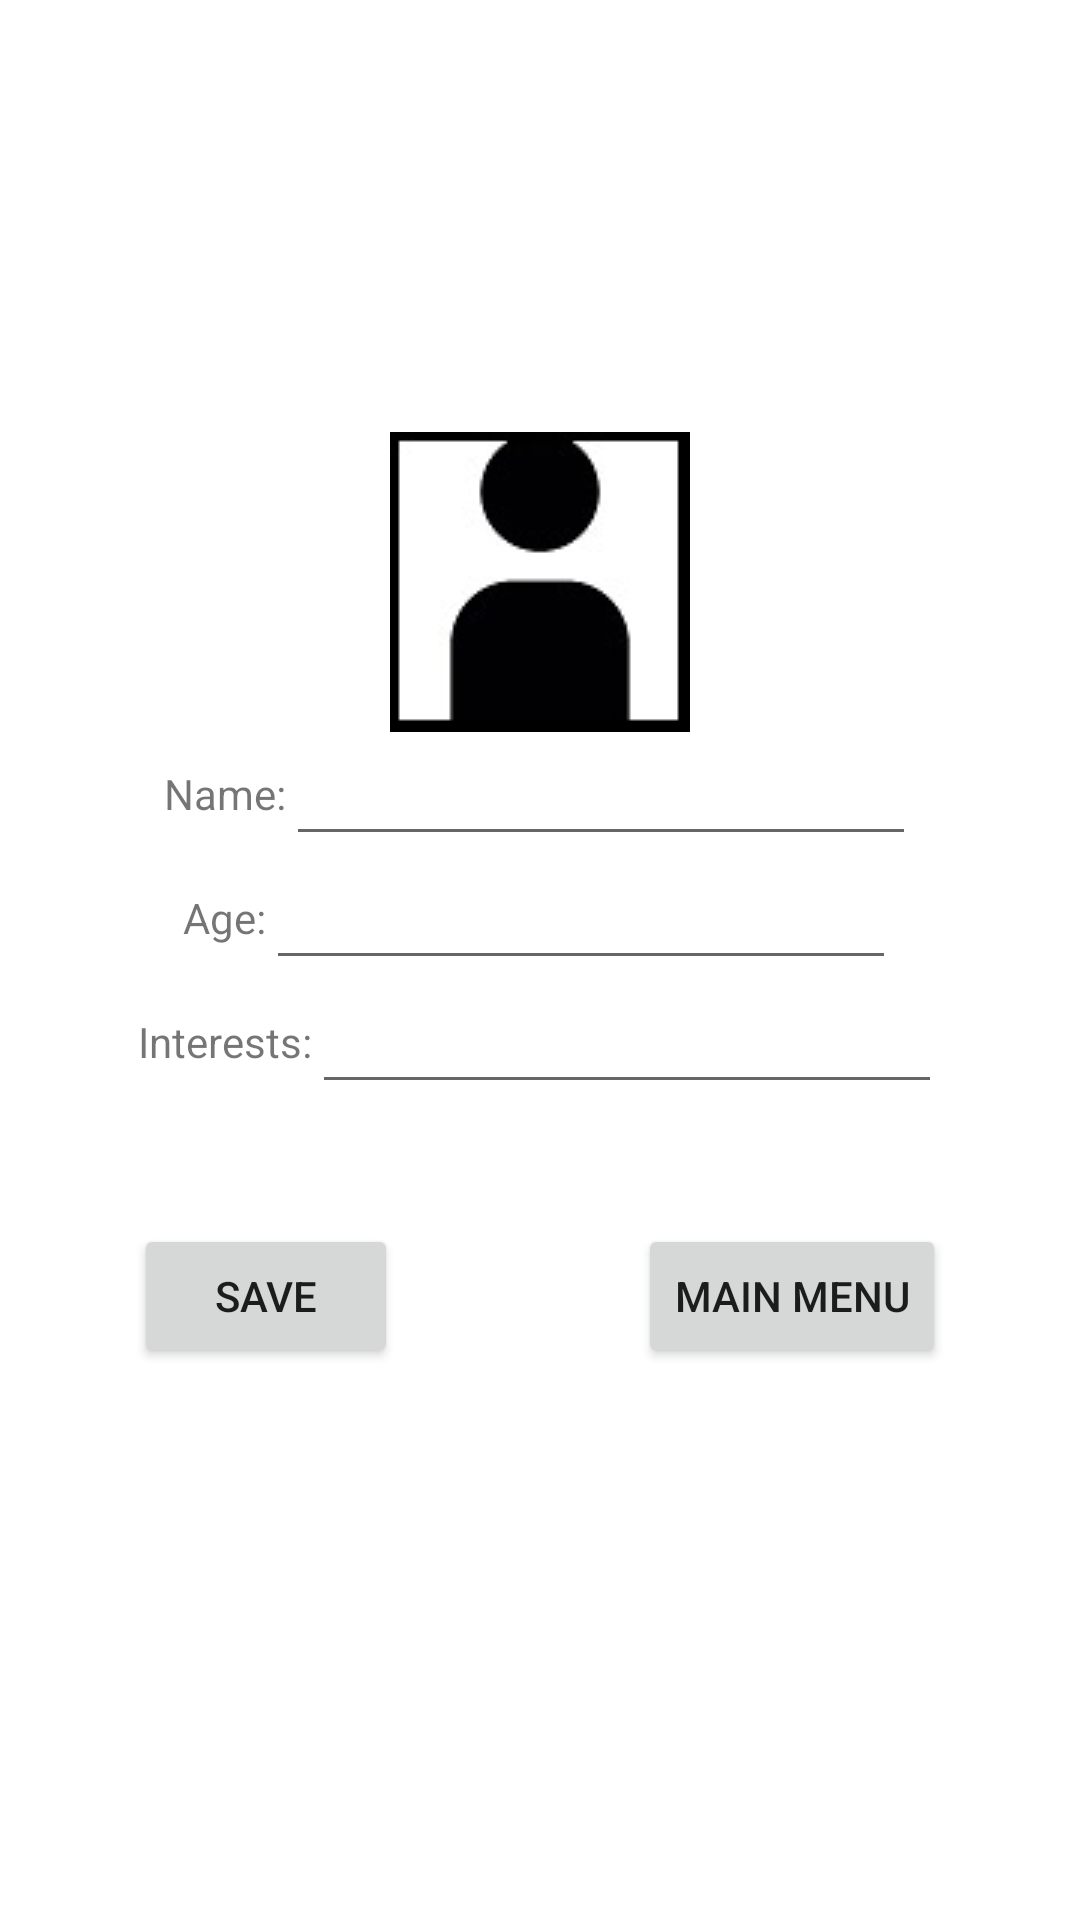

Icon bounding boxes for this 1080 x 1920 phone screenshot, format (x1, y1, x2, y2):
user: (390, 432, 690, 732)
